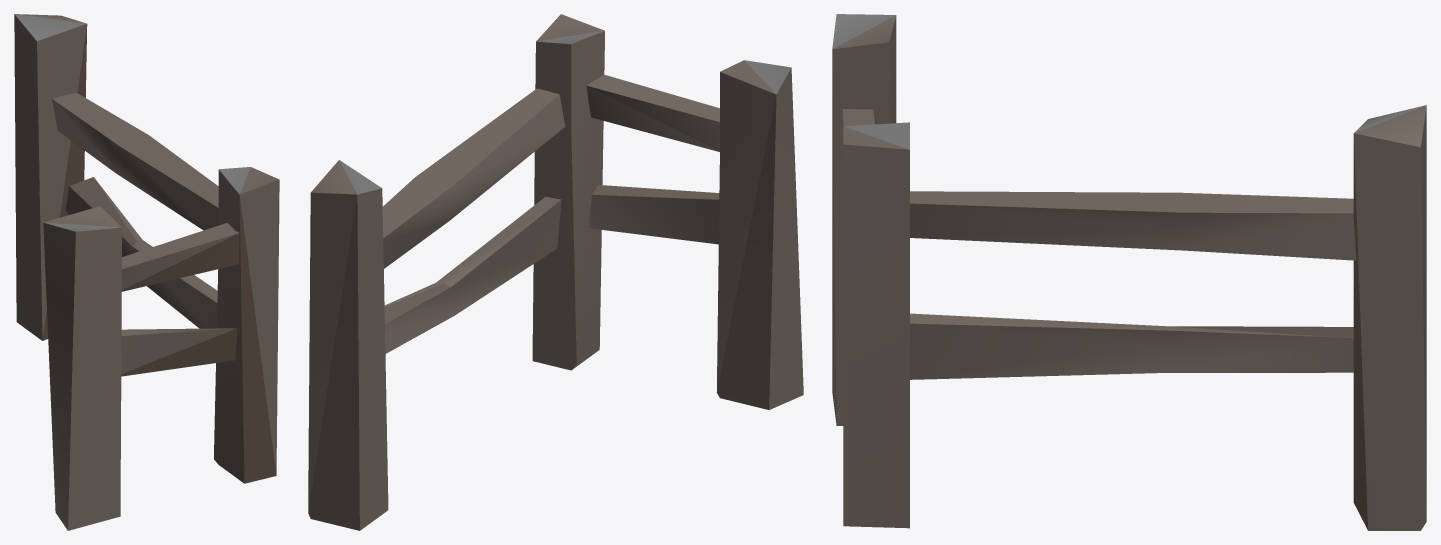
File: Fence 2.fbx
The picture shows the model from 3 angles, left to right: view 1: azimuth 30°, elevation 25°; view 2: azimuth 150°, elevation 25°; view 3: azimuth 270°, elevation 25°; orthographic projection. The views are drawn at different scales.
Visible parts, largest first — view 1: pasted__Fence3; view 2: pasted__Fence3; view 3: pasted__Fence3.
Boxes of the visible parts, left/top/right/bottom form: pasted__Fence3: left=14, top=14, right=279, bottom=530; pasted__Fence3: left=308, top=14, right=803, bottom=530; pasted__Fence3: left=832, top=14, right=1426, bottom=530.
Size of the model in its own units: 9.51 by 12.29 by 16.65.
